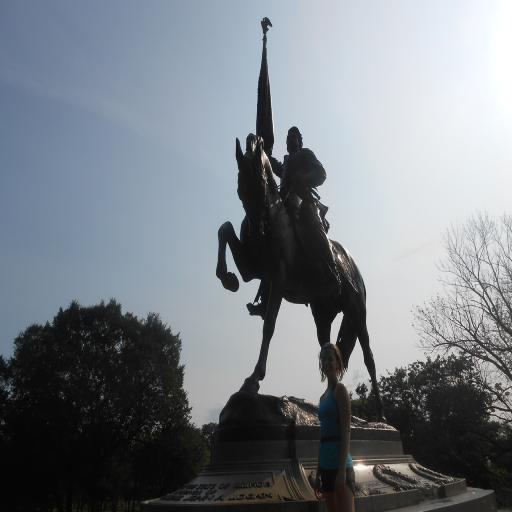horse: (216, 134, 386, 426)
